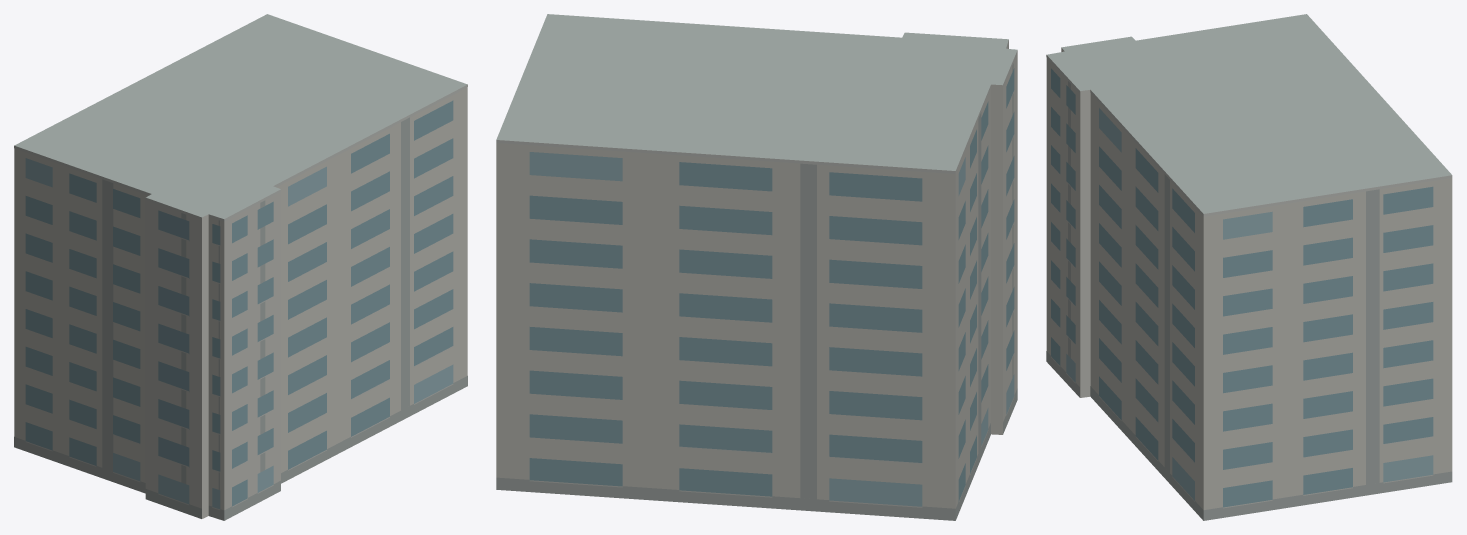
Rendered from survey-upis-32932387.glb.
The picture shows the model from 3 angles, left to right: view 1: azimuth 30°, elevation 25°; view 2: azimuth 150°, elevation 25°; view 3: azimuth 270°, elevation 25°; orthographic projection. The views are drawn at different scales.
Visible parts, largest first — view 1: survey-upis-32932387.tmp; view 2: survey-upis-32932387.tmp; view 3: survey-upis-32932387.tmp.
Boxes of the visible parts, x1,y1,x2,y2 form: survey-upis-32932387.tmp: [14, 14, 467, 520]; survey-upis-32932387.tmp: [496, 14, 1017, 520]; survey-upis-32932387.tmp: [1046, 14, 1452, 520].
Size of the model in its own units: 38.38 by 27.46 by 32.92.
